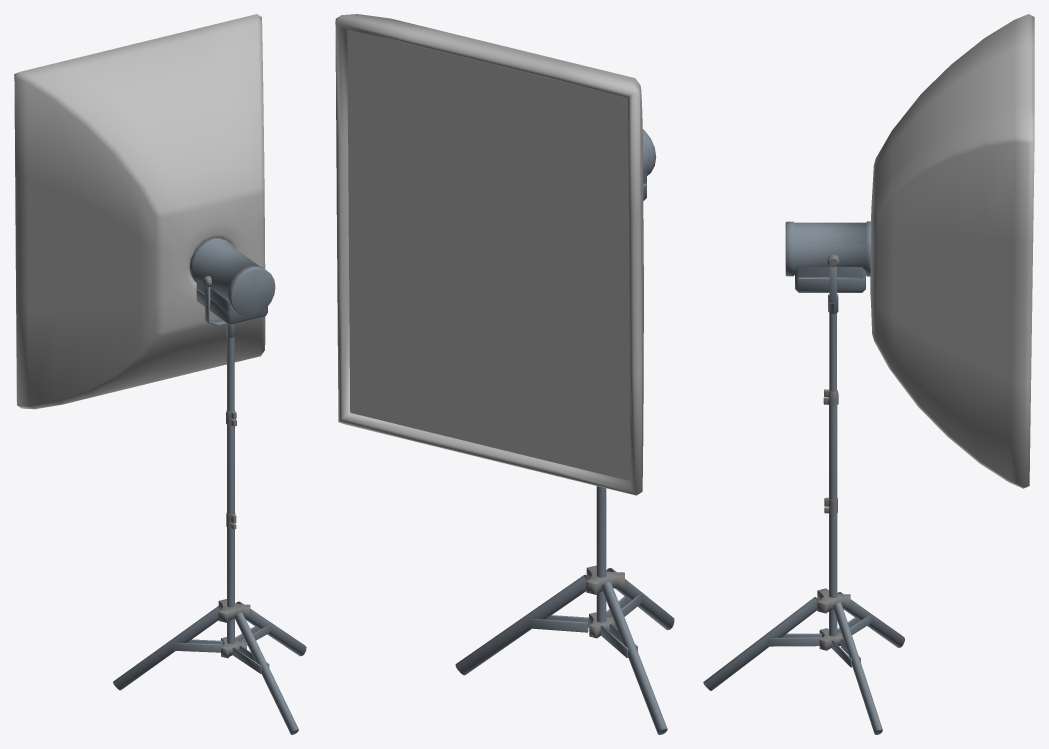
File: Studio SoftBox Light.fbx
The picture shows the model from 3 angles, left to right: view 1: azimuth 30°, elevation 25°; view 2: azimuth 150°, elevation 25°; view 3: azimuth 270°, elevation 25°; orthographic projection. The views are drawn at different scales.
Visible parts, largest first — view 1: Studio SoftBox Light.004; view 2: Studio SoftBox Light.004; view 3: Studio SoftBox Light.004.
Boxes of the visible parts, x1,y1,x2,y2 form: Studio SoftBox Light.004: [14, 14, 306, 734]; Studio SoftBox Light.004: [335, 14, 674, 734]; Studio SoftBox Light.004: [703, 14, 1034, 734].
Bounding box in the file's own units: 152 × 343 × 168.
